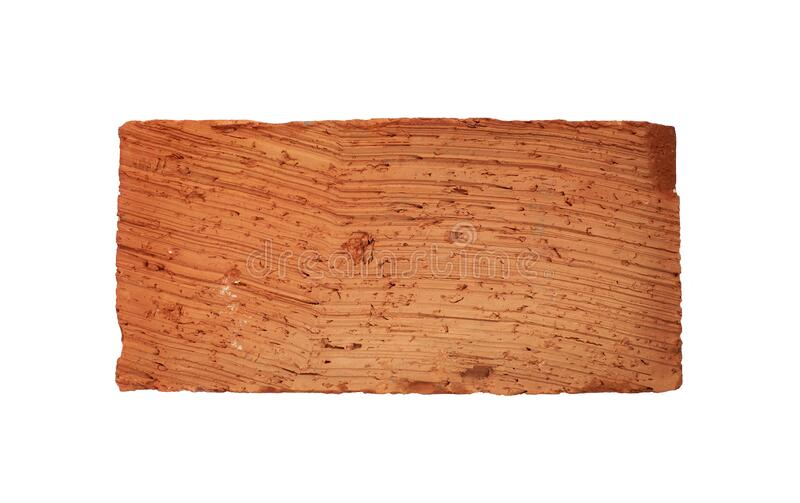brick: (120, 119, 682, 395)
